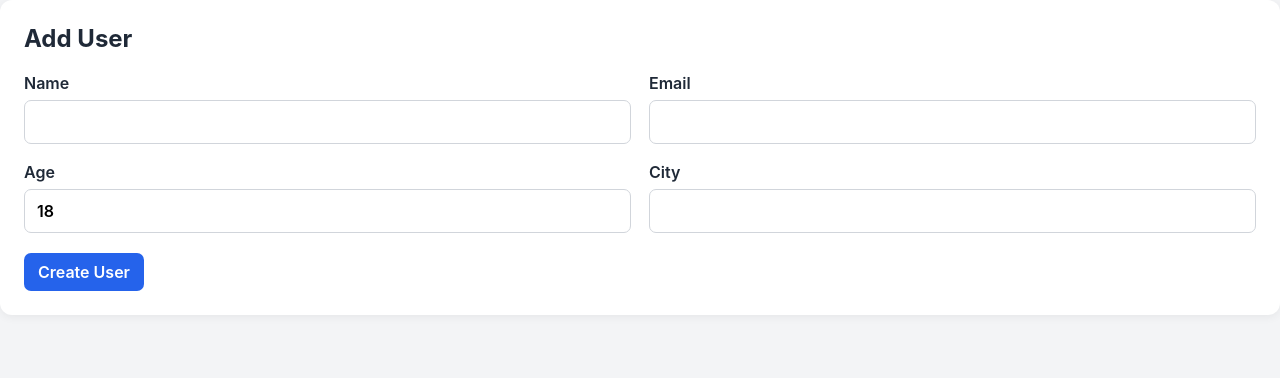
UserForm › shows validation errors for invalid form
In the field labelled "Email": (952, 122) 649,100 -> 1256,144, type "invalid"
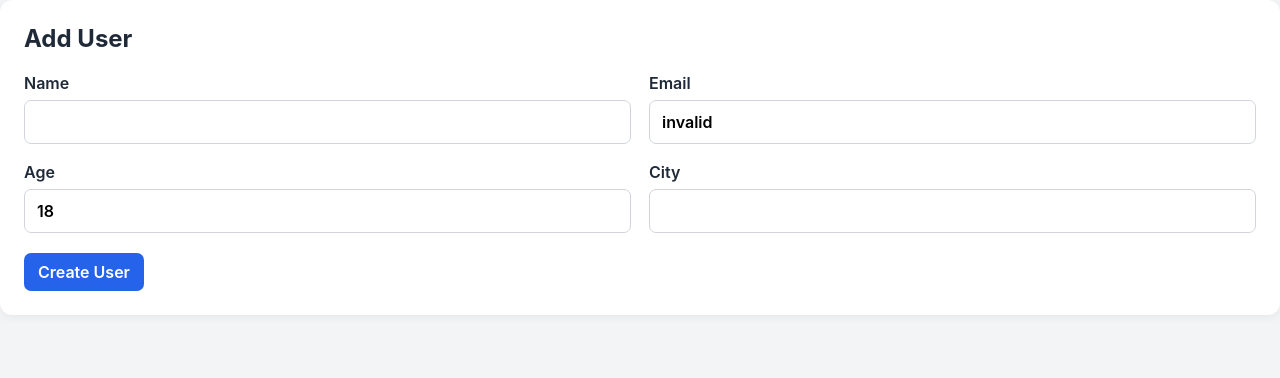
Click the button "Create User": (84, 272) 24,253 -> 144,291
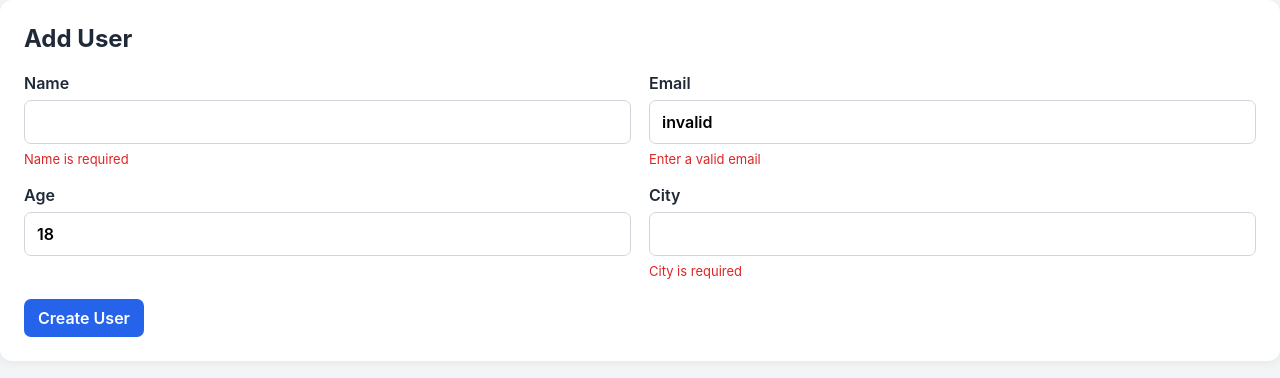
Expected: the text "Name is required" is shown, 24,151 -> 129,167
Expected: the text "Enter a valid email" is shown, 649,151 -> 761,167
Expected: the text "City is required" is shown, 649,263 -> 742,279
